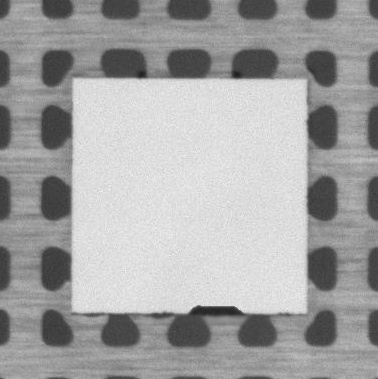DIE_BROKEN: (187, 304, 248, 315)
